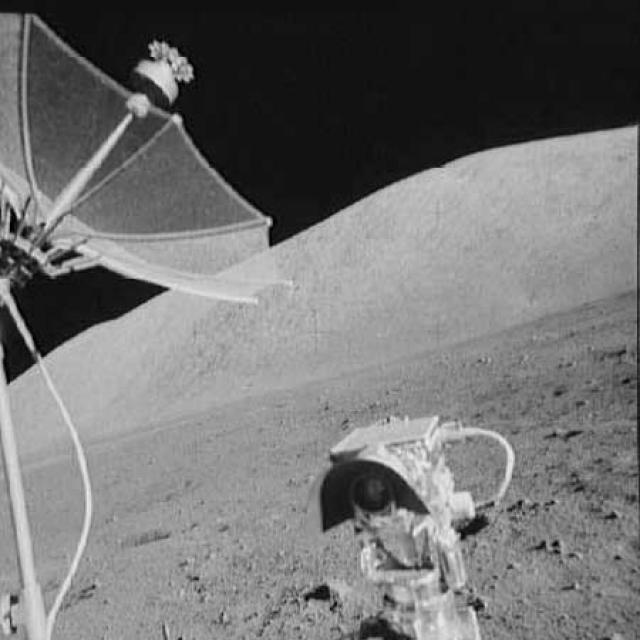artifact: (0, 12, 288, 322), (316, 414, 522, 638), (0, 322, 96, 639)
rock: (300, 578, 351, 604)
